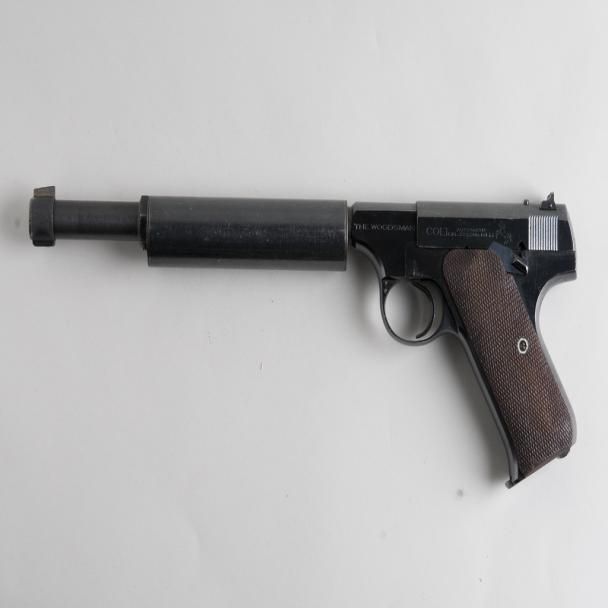Gun: (26, 172, 589, 496)
